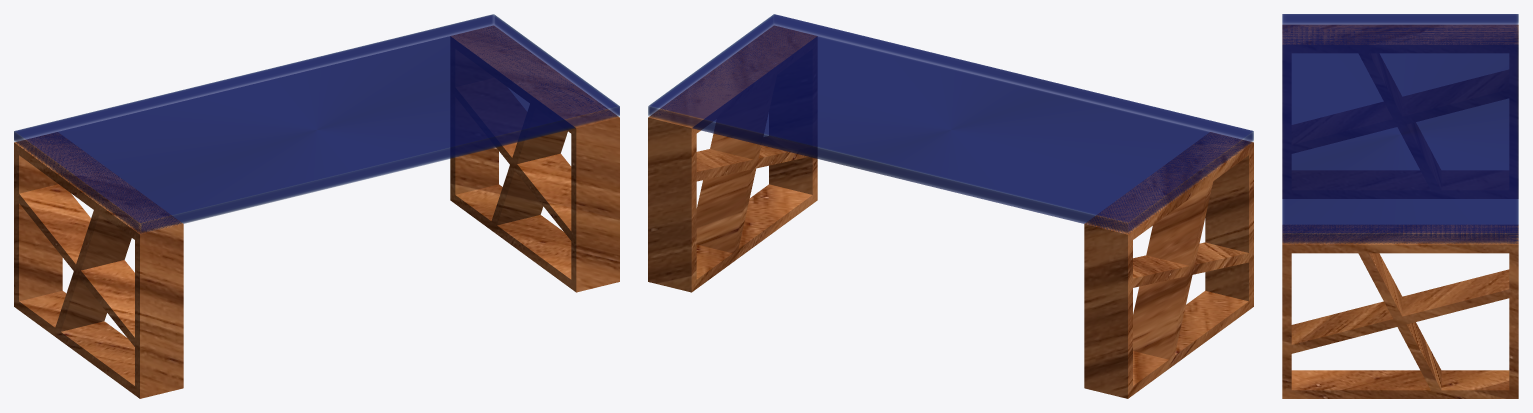
Rendered from coffeetable.gltf.
3 views of the same model, side by side, from view 1: azimuth 30°, elevation 25°; view 2: azimuth 150°, elevation 25°; view 3: azimuth 270°, elevation 25° (orthographic). The views are drawn at different scales.
Visible parts, largest first — view 1: green glass_clonedChild, Walnut leg, green glass; view 2: green glass_clonedChild, Walnut leg, green glass; view 3: green glass_clonedChild, green glass, Walnut leg.
Part boxes in pixels (x1,y1,x2,y2): green glass_clonedChild: [14, 14, 619, 232]; Walnut leg: [14, 25, 619, 398]; green glass: [14, 14, 619, 233]; green glass_clonedChild: [648, 14, 1253, 232]; Walnut leg: [648, 25, 1253, 398]; green glass: [648, 14, 1253, 233]; green glass_clonedChild: [1282, 14, 1518, 243]; green glass: [1283, 14, 1518, 243]; Walnut leg: [1282, 24, 1518, 398].
Bounding box in the file's own units: 1.1 × 0.385 × 0.5.
2 materials, 2 textured.
